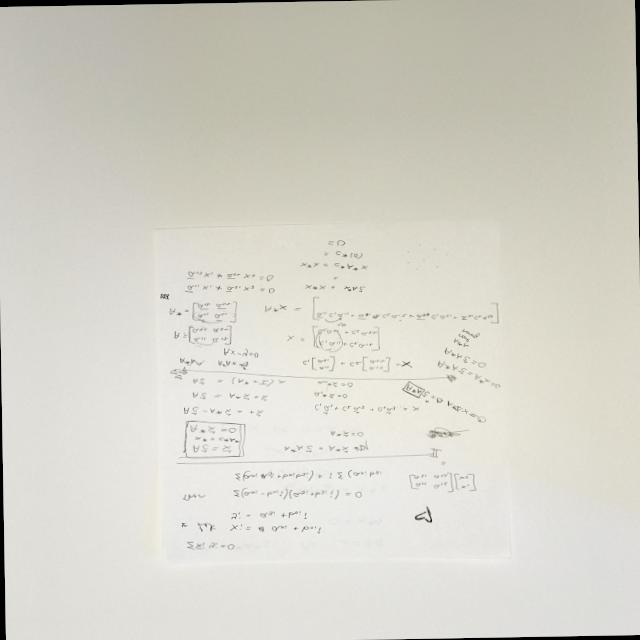Paper: (143, 206, 530, 574)
